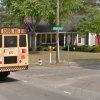Bus: (3, 21, 35, 79)
